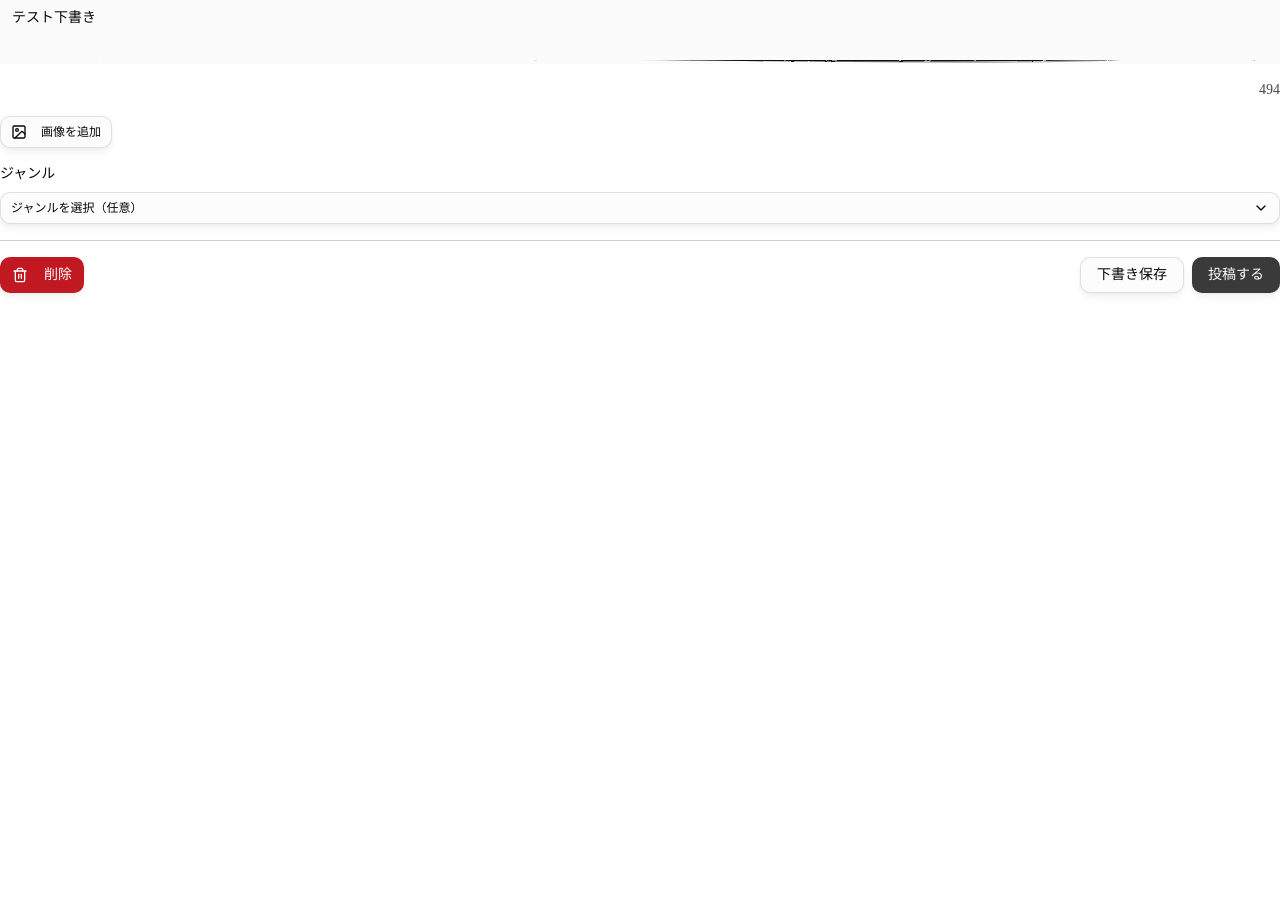
Test: DraftEditForm - 未カバー分岐テスト › handlePublish内でsaveDraft.errorが返された場合、エラーを表示し投稿を中断
Click the button "投稿する" at x=1236, y=275, box [1192,257,1279,293]
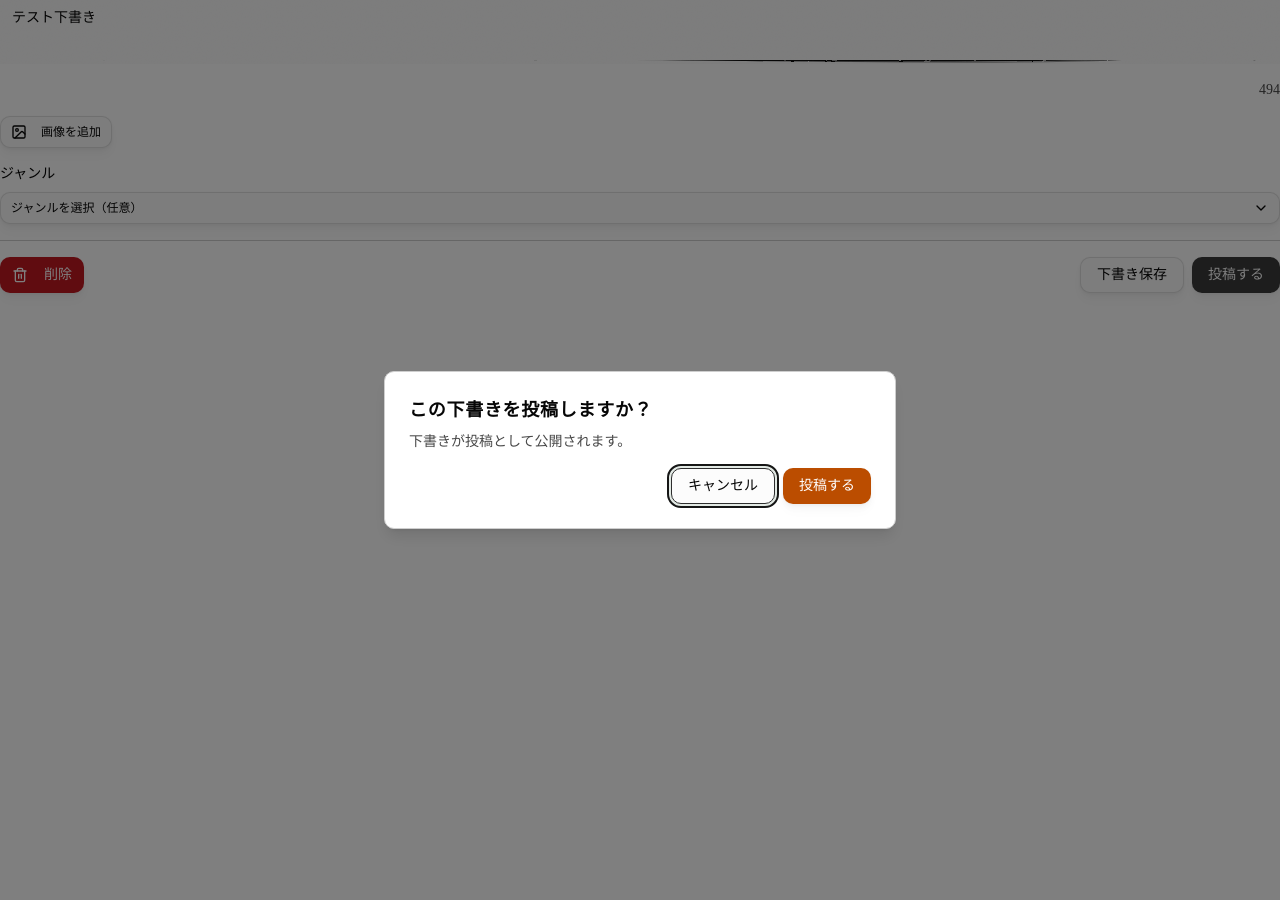
Result: the dialog is shown at [384,371,896,529]
Click the button "投稿する" at x=827, y=486, box [783,468,871,504]
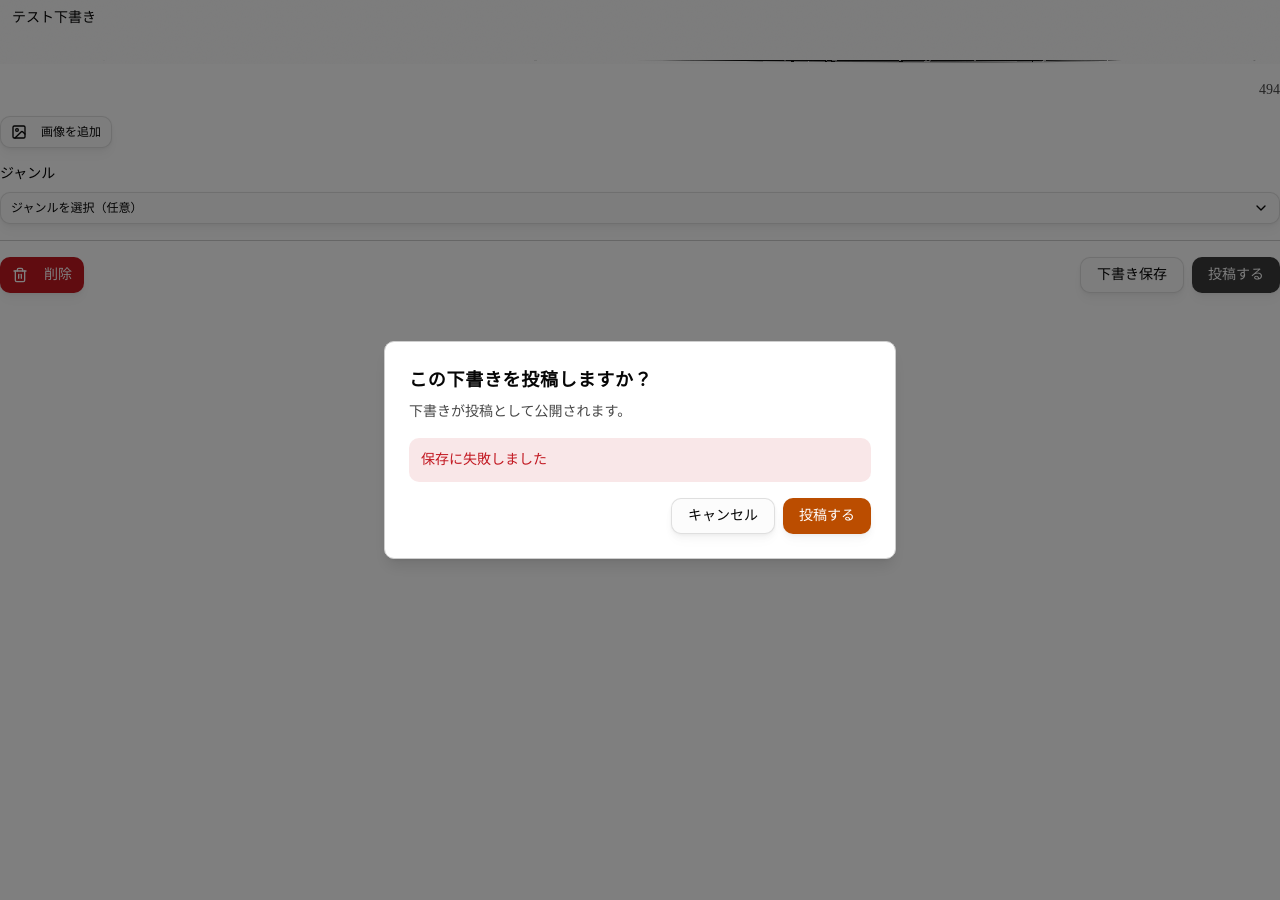
Result: the text "保存に失敗しました" is shown at [409,438,871,482]
